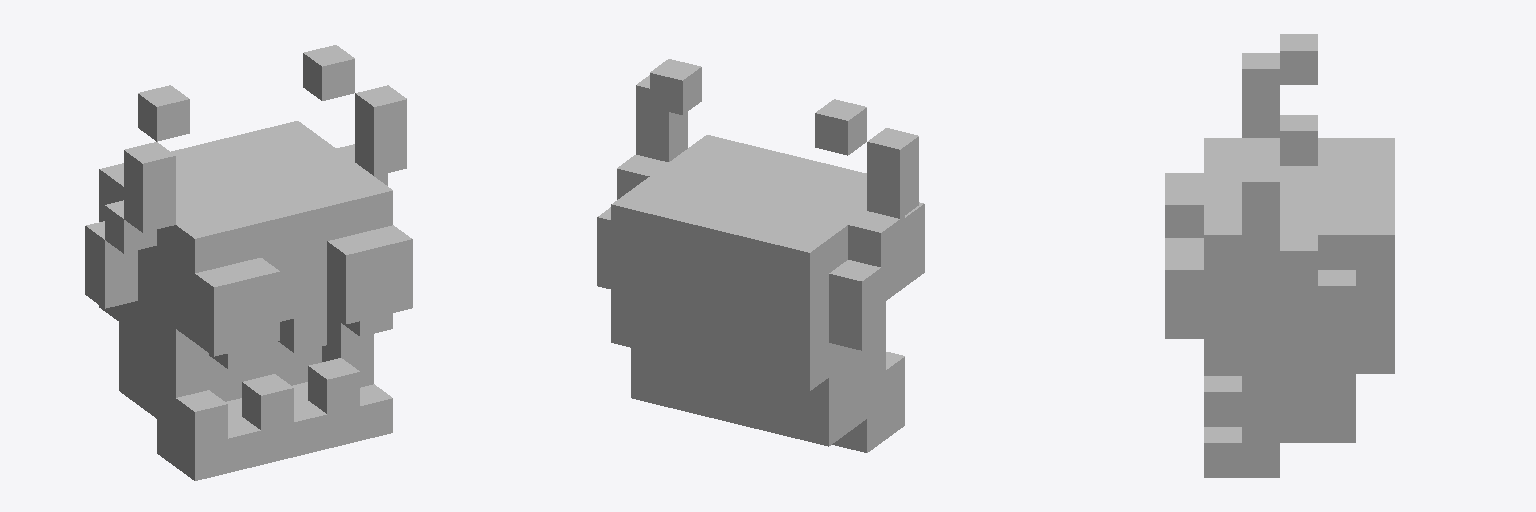
The model's file is Yeti_Head.obj.
3 views of the same model, side by side, from view 1: azimuth 30°, elevation 25°; view 2: azimuth 150°, elevation 25°; view 3: azimuth 270°, elevation 25° (orthographic).
Parts seen in each view (by area): view 1: Yeti_Head; view 2: Yeti_Head; view 3: Yeti_Head.
Boxes of the visible parts, box(x1,y1,x2,y2) form: Yeti_Head: box(85, 45, 412, 480); Yeti_Head: box(597, 59, 924, 452); Yeti_Head: box(1165, 34, 1394, 477).
Bounding box in the file's own units: 8 × 10 × 6.